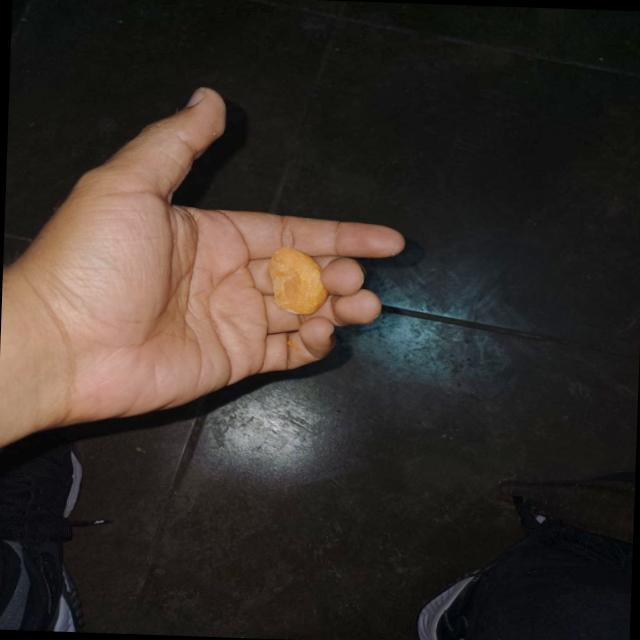organic: (264, 248, 331, 314)
